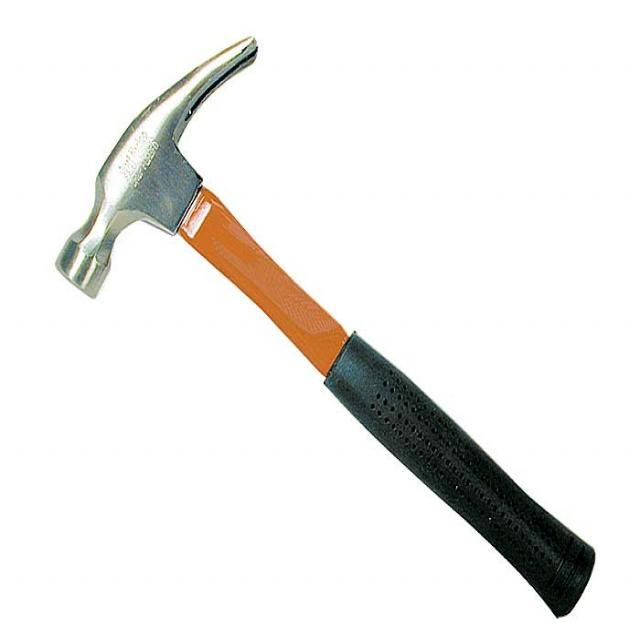hammer: (46, 23, 614, 628)
